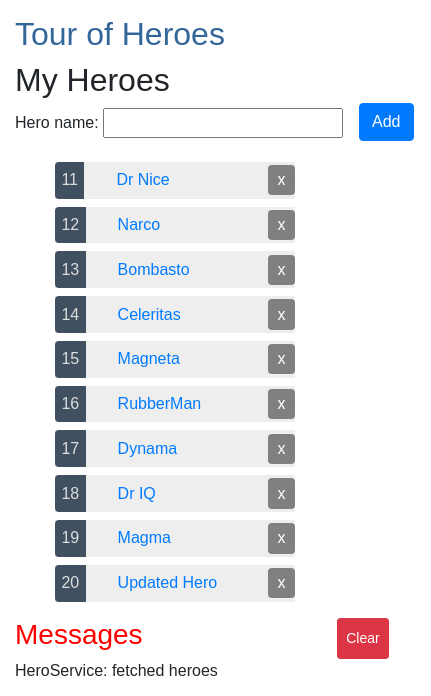
Test: Tour of Heroes - E2E tests › Perform CRUD on Heroes › clears Messages by clicking the "clear" button
The width and height of the screenshot is (431, 696).
(page scrolled)
Expected: the element showing "Messages Clear HeroService: fetched heroes" is shown, [15,618,389,679]
Expected: the heading "Messages" is shown, [15,618,143,651]
What coordinates should you click on to do the following:
click the button "Clear"
I would click on:
 (363, 639)
Its box is [337,618,389,660].
(page scrolled)
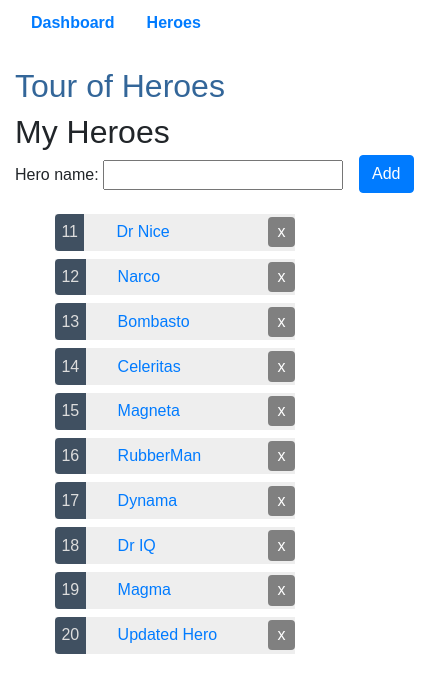
Now the text "Messages Clear" is gone
